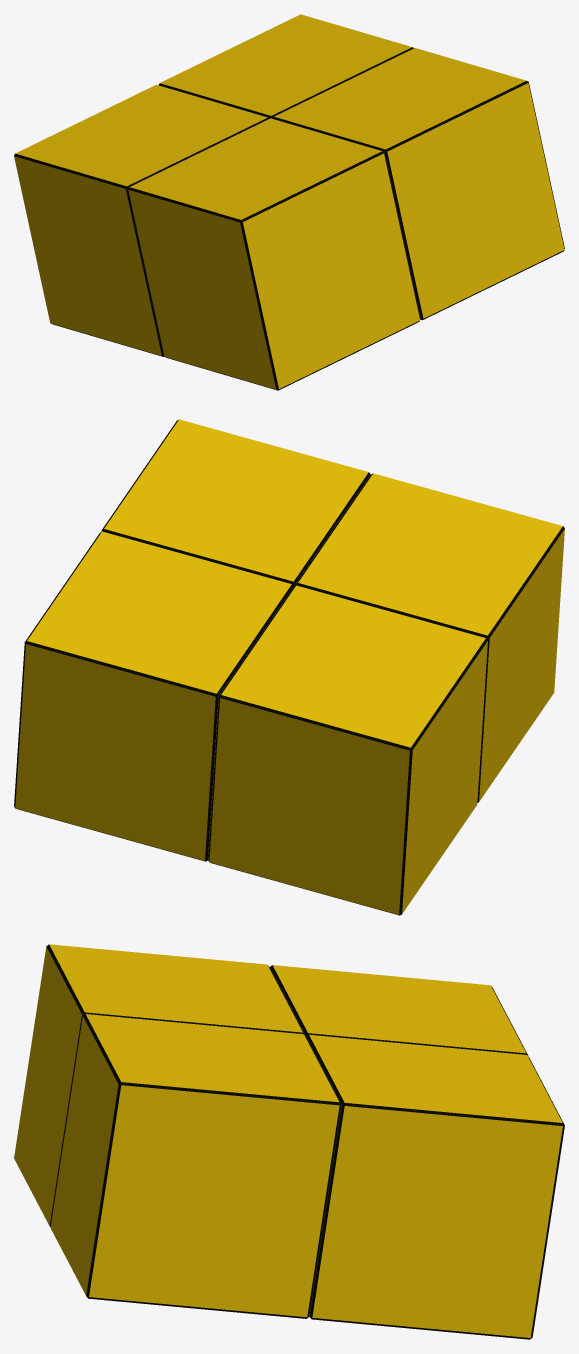
The picture shows the model from 3 angles, top to bottom: view 1: azimuth 30°, elevation 25°; view 2: azimuth 150°, elevation 25°; view 3: azimuth 270°, elevation 25°; orthographic projection. The views are drawn at different scales.
Visible parts, largest first — view 1: Cube.007, Cube.006, Cube.004, Cube.005; view 2: Cube.004, Cube.005, Cube.007, Cube.006; view 3: Cube.006, Cube.005, Cube.007, Cube.004.
Part boxes in pixels (left/top/right/bottom): Cube.007: left=128, top=118, right=420, bottom=390; Cube.006: left=273, top=48, right=564, bottom=320; Cube.004: left=14, top=84, right=269, bottom=356; Cube.005: left=158, top=14, right=413, bottom=118; Cube.004: left=208, top=585, right=487, bottom=915; Cube.005: left=14, top=531, right=293, bottom=861; Cube.007: left=295, top=473, right=564, bottom=802; Cube.006: left=101, top=419, right=370, bottom=586; Cube.006: left=50, top=1014, right=341, bottom=1318; Cube.005: left=306, top=1034, right=564, bottom=1339; Cube.007: left=14, top=944, right=304, bottom=1226; Cube.004: left=269, top=965, right=528, bottom=1055.
Bounding box in the file's own units: 237 × 154 × 241.
